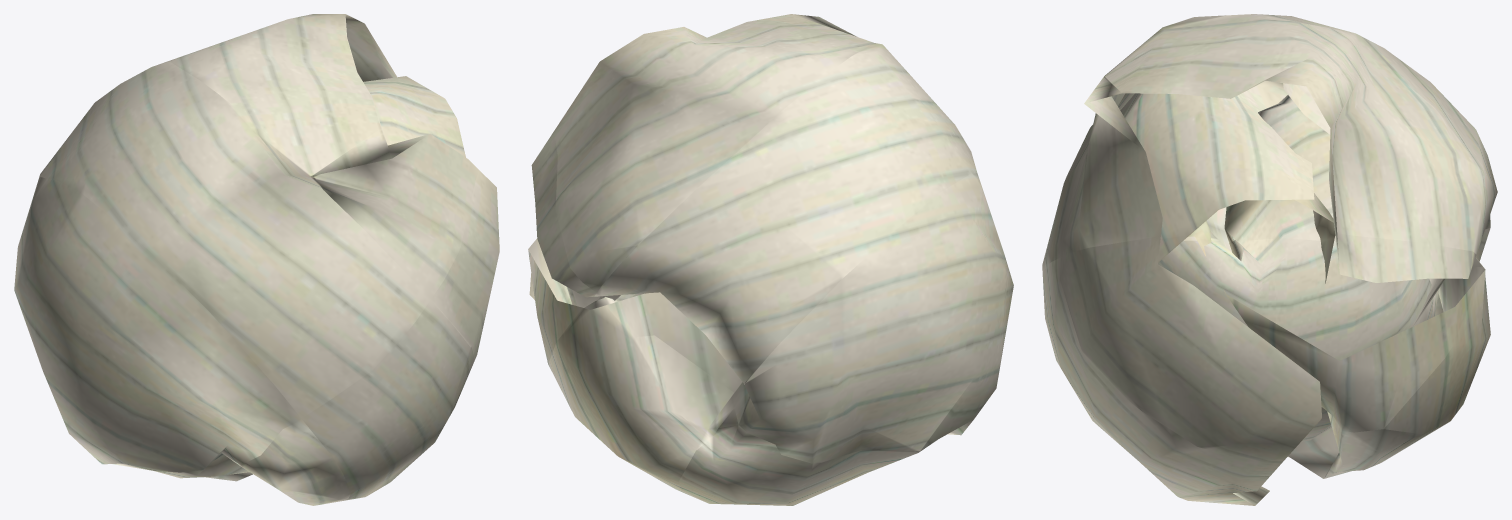
The model's file is paperrball broken.fbx.
3 renders of one model, left to right at view 1: azimuth 30°, elevation 25°; view 2: azimuth 150°, elevation 25°; view 3: azimuth 270°, elevation 25°, orthographic.
Visible parts, largest first — view 1: Ball.004, Ball.005, Ball.007, Ball.002, Ball.008; view 2: Ball.004, Ball.005, Ball.007, Ball.018, Ball.014, Ball.044; view 3: Ball.007, Ball.002, Ball.018, Ball.008, Ball.027, Ball.033, Ball.004, Ball.044, Ball.029, Ball.014, Ball.019, Ball.034.
Part boxes in pixels (x1=…): Ball.004: x1=39, y1=61, x2=430, y2=418; Ball.005: x1=14, y1=177, x2=301, y2=472; Ball.007: x1=168, y1=14, x2=478, y2=298; Ball.002: x1=154, y1=170, x2=499, y2=505; Ball.008: x1=363, y1=76, x2=465, y2=157; Ball.004: x1=597, y1=43, x2=977, y2=407; Ball.005: x1=734, y1=173, x2=1013, y2=463; Ball.007: x1=551, y1=14, x2=873, y2=292; Ball.018: x1=528, y1=238, x2=734, y2=492; Ball.014: x1=679, y1=408, x2=955, y2=505; Ball.044: x1=531, y1=135, x2=600, y2=297; Ball.007: x1=1061, y1=14, x2=1486, y2=256; Ball.002: x1=1042, y1=235, x2=1321, y2=505; Ball.018: x1=1196, y1=239, x2=1490, y2=477; Ball.008: x1=1124, y1=81, x2=1330, y2=238; Ball.027: x1=1158, y1=238, x2=1430, y2=360; Ball.033: x1=1224, y1=95, x2=1335, y2=242; Ball.004: x1=1042, y1=14, x2=1497, y2=271; Ball.044: x1=1335, y1=232, x2=1476, y2=282; Ball.029: x1=1183, y1=193, x2=1335, y2=247; Ball.014: x1=1288, y1=299, x2=1443, y2=478; Ball.019: x1=1301, y1=284, x2=1438, y2=441; Ball.034: x1=1320, y1=238, x2=1445, y2=326.
Bounding box in the file's own units: 67.57 × 68.04 × 62.75.
